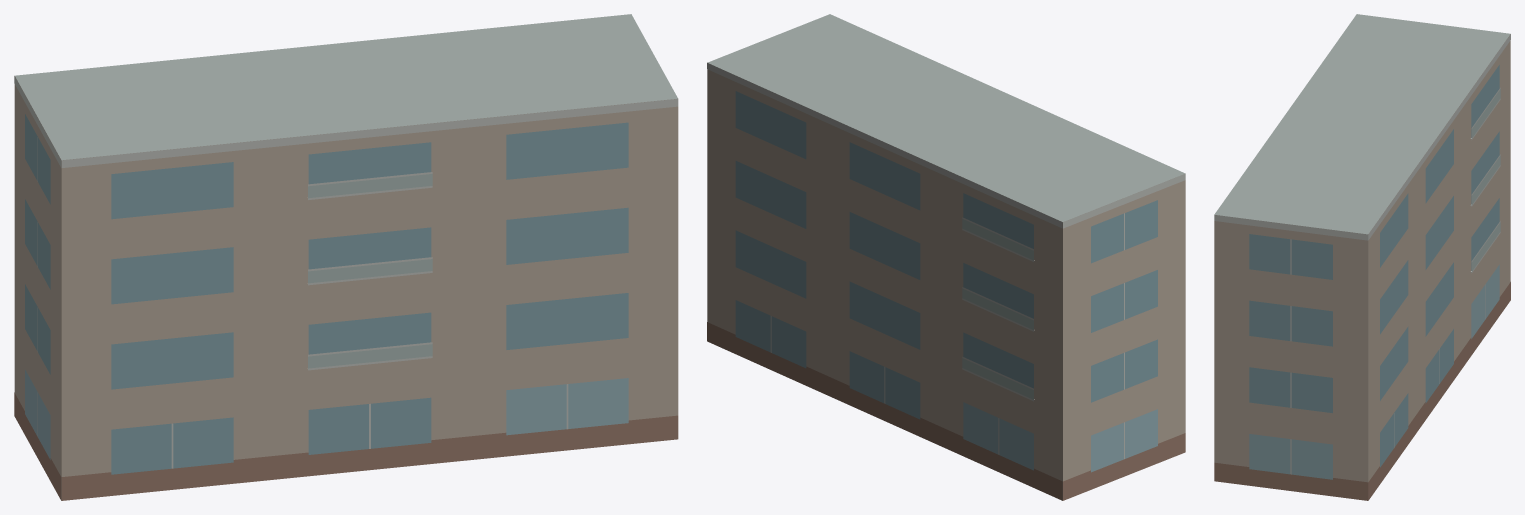
Rendered from survey-upis-32873976.glb.
The picture shows the model from 3 angles, left to right: view 1: azimuth 30°, elevation 25°; view 2: azimuth 150°, elevation 25°; view 3: azimuth 270°, elevation 25°; orthographic projection. The views are drawn at different scales.
Parts seen in each view (by area): view 1: survey-upis-32873976.tmp; view 2: survey-upis-32873976.tmp; view 3: survey-upis-32873976.tmp.
Boxes of the visible parts, x1,y1,x2,y2 form: survey-upis-32873976.tmp: [14, 14, 678, 500]; survey-upis-32873976.tmp: [707, 14, 1185, 500]; survey-upis-32873976.tmp: [1214, 14, 1510, 500].
Bounding box in the file's own units: 18.64 × 10.5 × 10.6.
